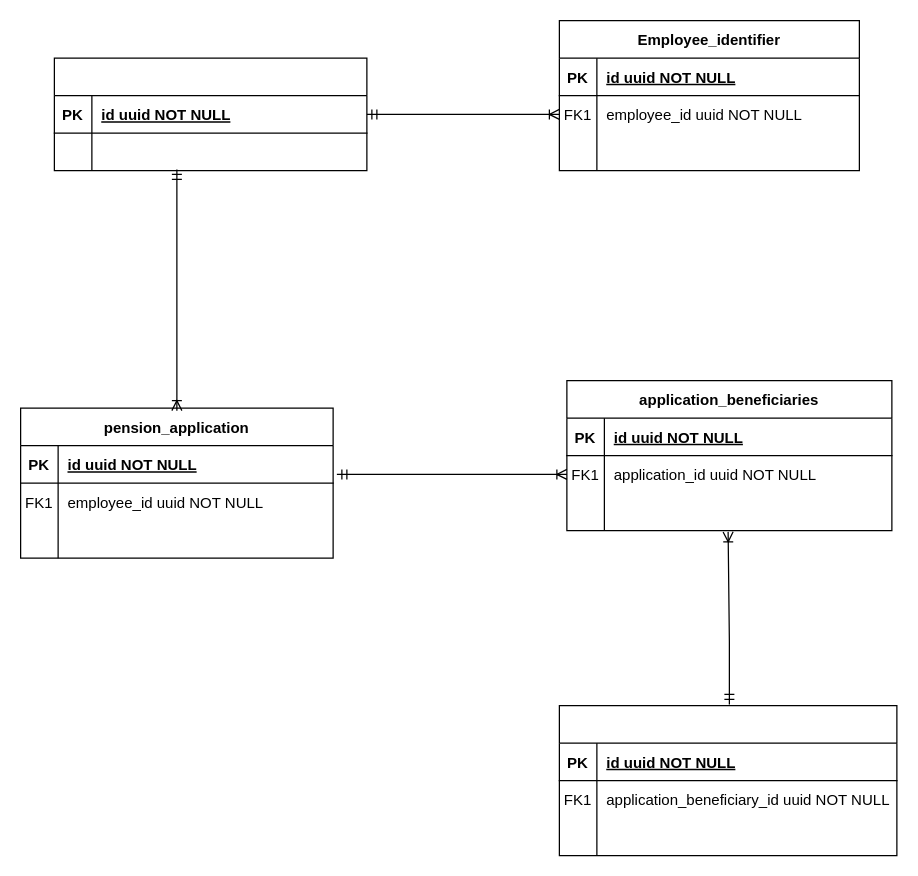
The diagram is 918 pixels wide and 876 high, and some of its shapes have lost their labels. Each missing label, with the box of its shape:
application_payments: (558, 704, 897, 856)
Employee: (53, 57, 367, 171)
